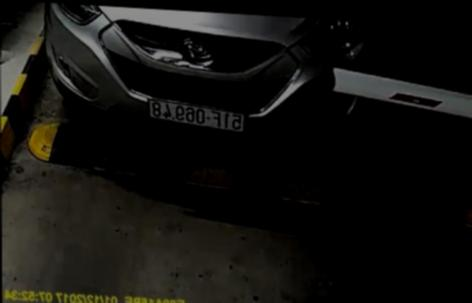License_Plate: (142, 96, 247, 132)
